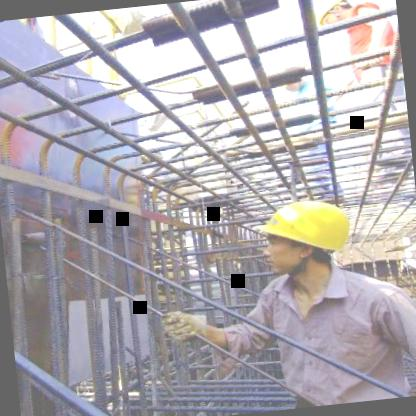helmet: (246, 190, 360, 279), (302, 0, 355, 35)
